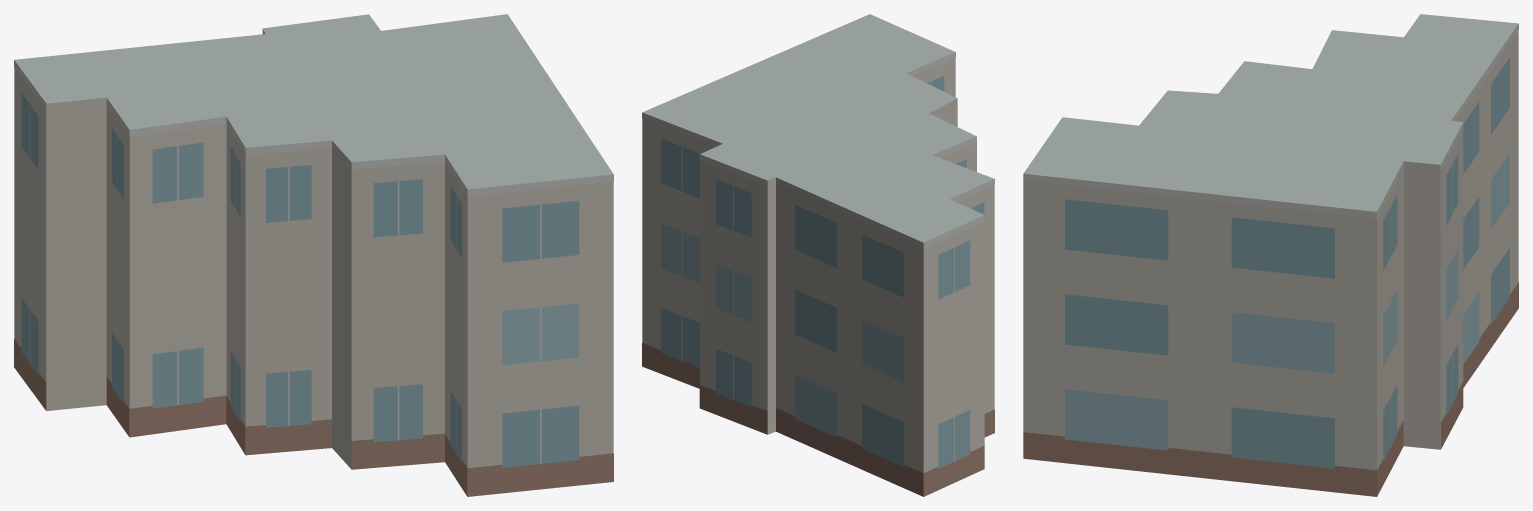
The model's file is survey-upis-32753268.glb.
3 views of the same model, side by side, from view 1: azimuth 30°, elevation 25°; view 2: azimuth 150°, elevation 25°; view 3: azimuth 270°, elevation 25° (orthographic). The views are drawn at different scales.
Visible parts, largest first — view 1: survey-upis-32753268.tmp; view 2: survey-upis-32753268.tmp; view 3: survey-upis-32753268.tmp.
Part boxes in pixels (box(x1,y1,x2,y2)): survey-upis-32753268.tmp: box(14, 14, 613, 496); survey-upis-32753268.tmp: box(642, 14, 994, 496); survey-upis-32753268.tmp: box(1023, 14, 1518, 496).
Bounding box in the file's own units: 15.5 × 10.4 × 16.4.
